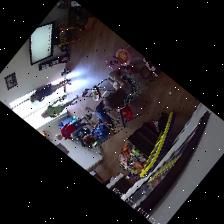person: (83, 102, 115, 144), (104, 65, 133, 108), (31, 79, 70, 101), (42, 96, 78, 117), (57, 116, 89, 139)
